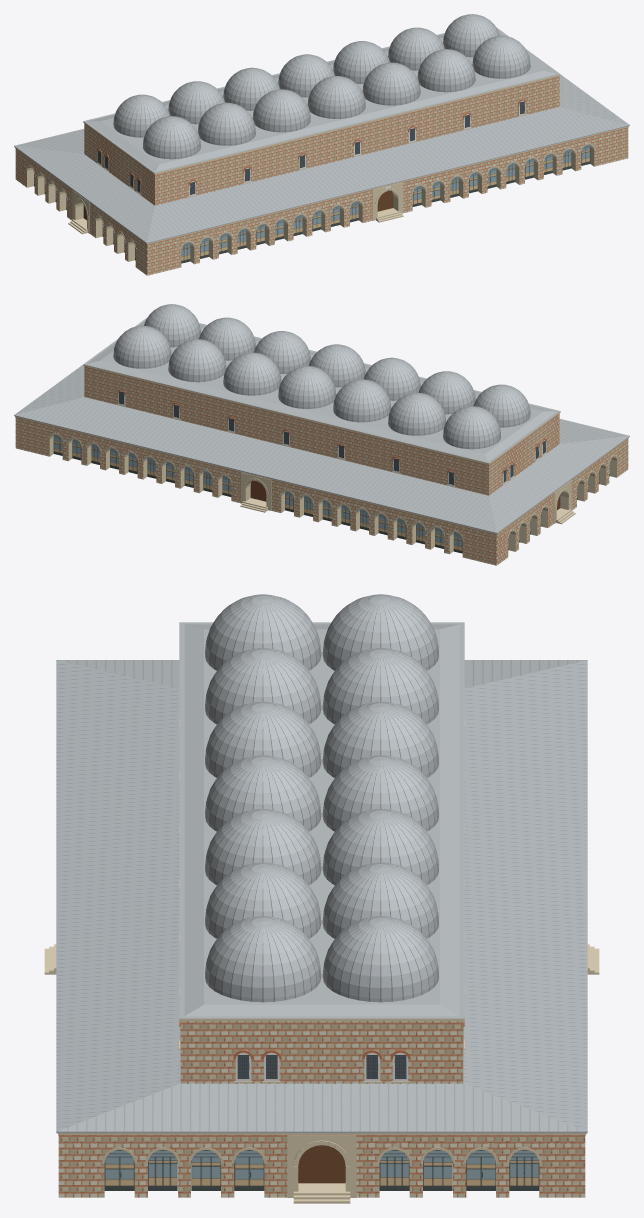
File: bedesten_v09.glb
3 renders of one model, top to bottom at view 1: azimuth 30°, elevation 25°; view 2: azimuth 150°, elevation 25°; view 3: azimuth 270°, elevation 25°, orthographic. The views are drawn at different scales.
Parts seen in each view (by area): view 1: Dukkanlar, Kubbeler, Govde, Kapilar; view 2: Dukkanlar, Kubbeler, Govde, Kapilar; view 3: Dukkanlar, Kubbeler, Govde, Kapilar.
Part boxes in pixels (box(x1,y1,x2,y2)): Dukkanlar: box(14, 27, 629, 275); Kubbeler: box(113, 14, 530, 159); Govde: box(84, 29, 559, 205); Kapilar: box(68, 182, 403, 234); Dukkanlar: box(14, 317, 629, 565); Kubbeler: box(113, 304, 530, 449); Govde: box(84, 319, 559, 495); Kapilar: box(240, 472, 575, 524); Dukkanlar: box(56, 622, 587, 1197); Kubbeler: box(205, 594, 438, 1002); Govde: box(179, 623, 464, 1083); Kapilar: box(44, 944, 599, 1203).
Bounding box in the file's own units: 72.5 × 14.2 × 35.3.
10 materials, 5 textured.
